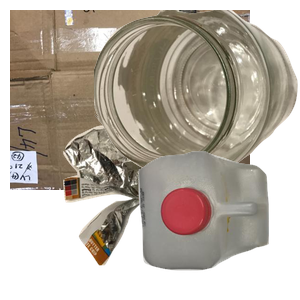cardboard: (10, 10, 250, 190)
glass: (94, 10, 300, 184)
plastic: (136, 149, 300, 300)
trash: (61, 123, 273, 300)
